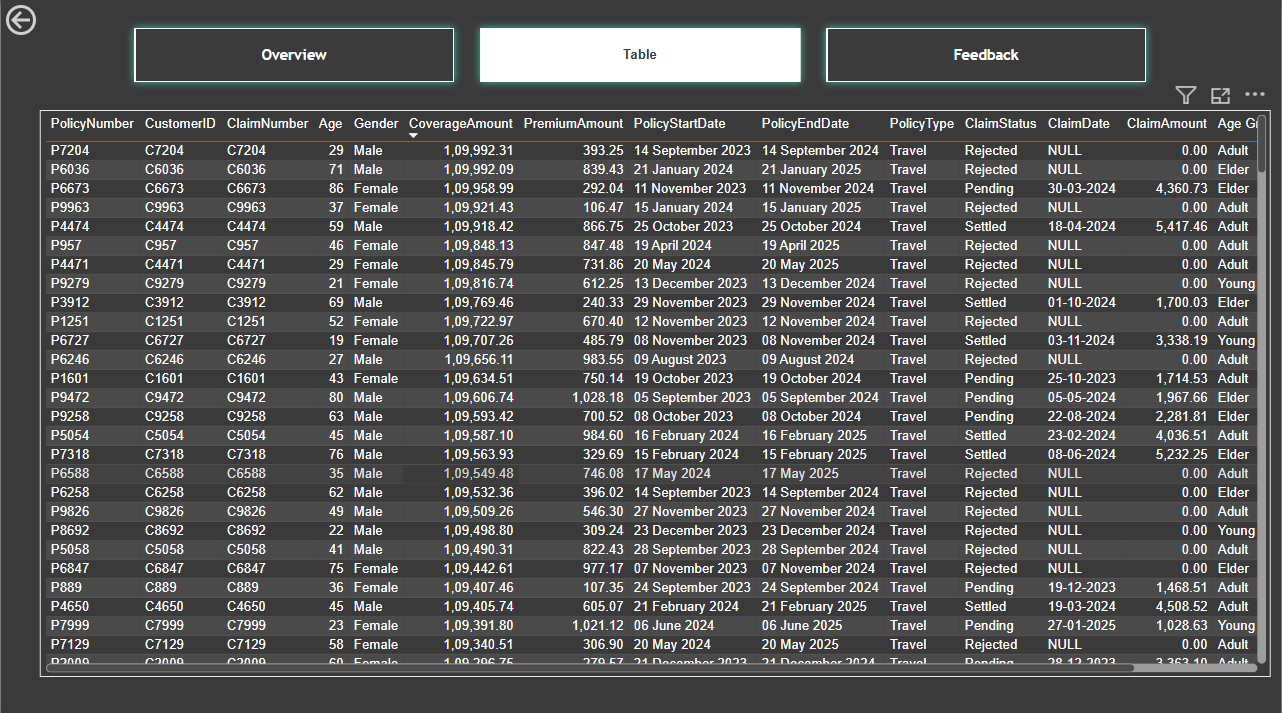

This screenshot's page, from the dashboard's own definition file:
{"tool":"powerbi","page":{"name":"Table","canvas":[1280,720],"ordinal":1},"visuals":[{"type":"tableEx","fields":{"Values":["InsuranceData.PolicyNumber","InsuranceData.CustomerID","InsuranceData.ClaimNumber","InsuranceData.Age","InsuranceData.Gender","InsuranceData.CoverageAmount","InsuranceData.PremiumAmount","InsuranceData.PolicyStartDate","InsuranceData.PolicyEndDate","InsuranceData.PolicyType","InsuranceData.ClaimStatus","InsuranceData.ClaimDate"]},"box":[39,109.9,1231.3,567.7],"z":0},{"type":"actionButton","box":[0,0,100,40],"z":1000},{"type":"pageNavigator","box":[125.2,19.5,1031,71],"z":2000}]}

Visuals, with their boxes on the page's 1280x720 design canvas (x1, y1, x2, y2). These are canvas units, not pixel positions in the 1282x713 screenshot, which may show the page scaled, cropped or inside an application window:
tableEx - InsuranceData.PolicyNumber x InsuranceData.CustomerID: l=39, t=110, r=1270, b=678
actionButton: l=0, t=0, r=100, b=40
pageNavigator: l=125, t=20, r=1156, b=90
